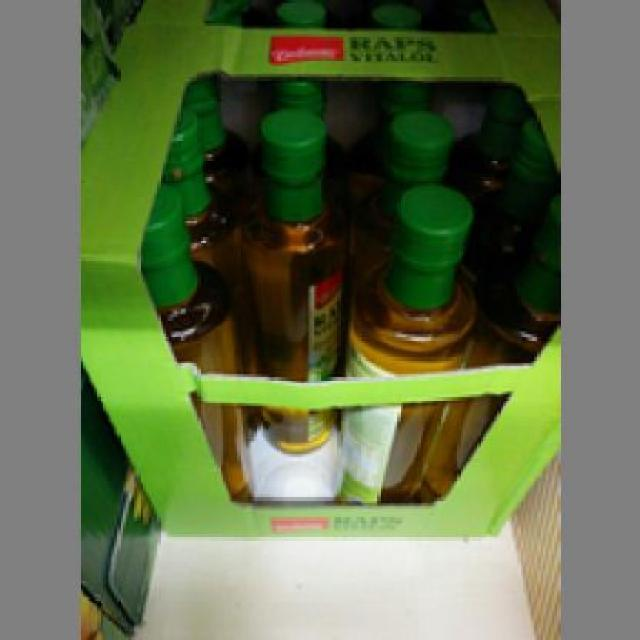Oil: (337, 183, 474, 500), (232, 111, 338, 452)
